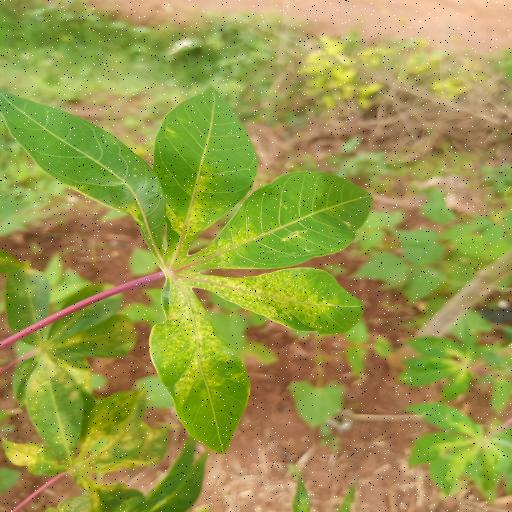Cassava_Mosaic: (0, 80, 380, 461)
